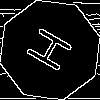H: (25, 25, 82, 79)
